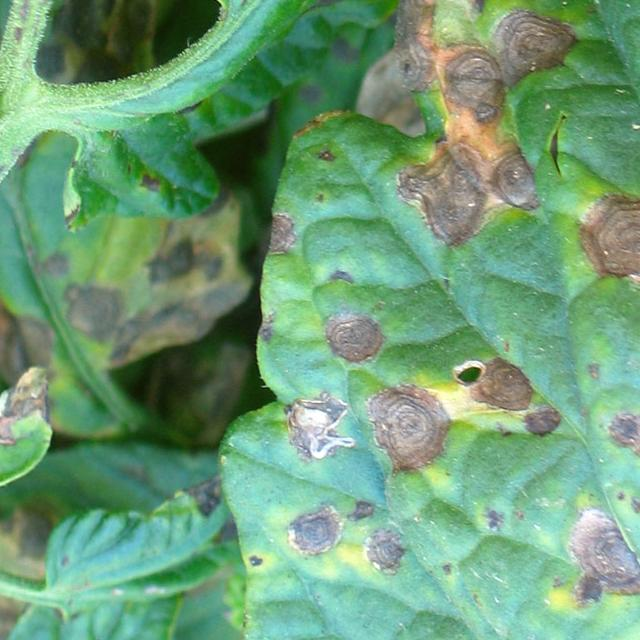Tomato Early blight leaf: (214, 0, 640, 640), (186, 0, 474, 19)
